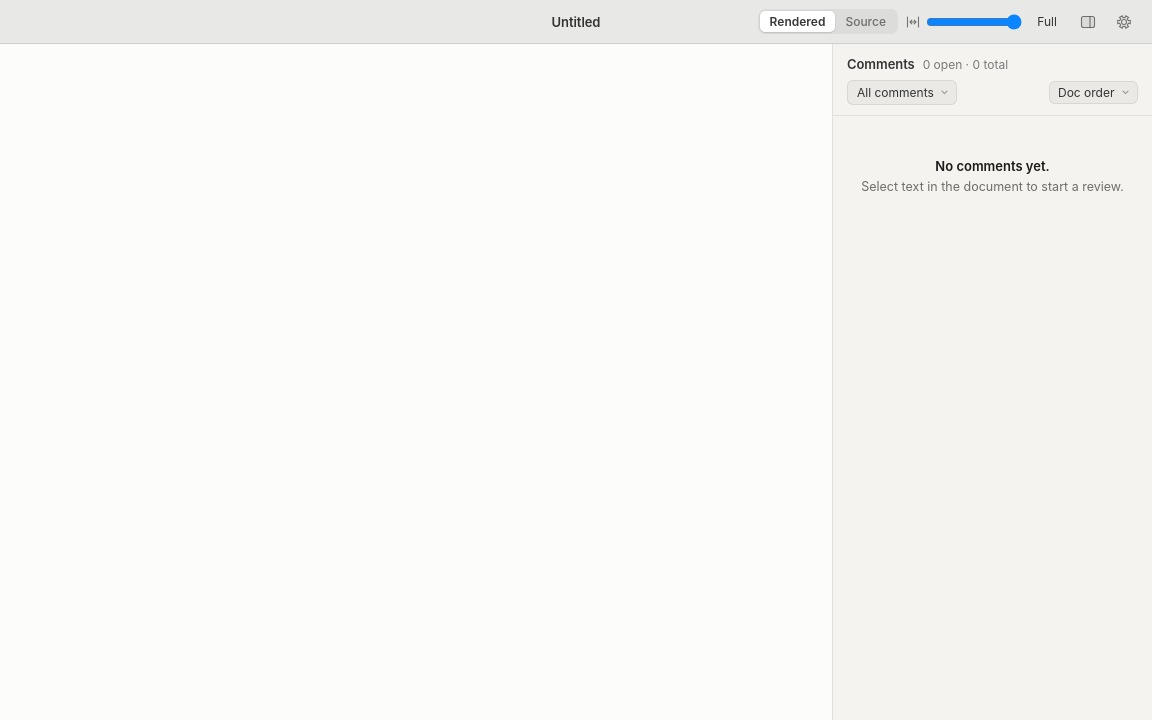
Scenario: Save skill file › shows the error when the bundle cannot be read
Click the button with test id "fm-titlebar-settings" at (1124, 22), box [1110, 10, 1138, 34]
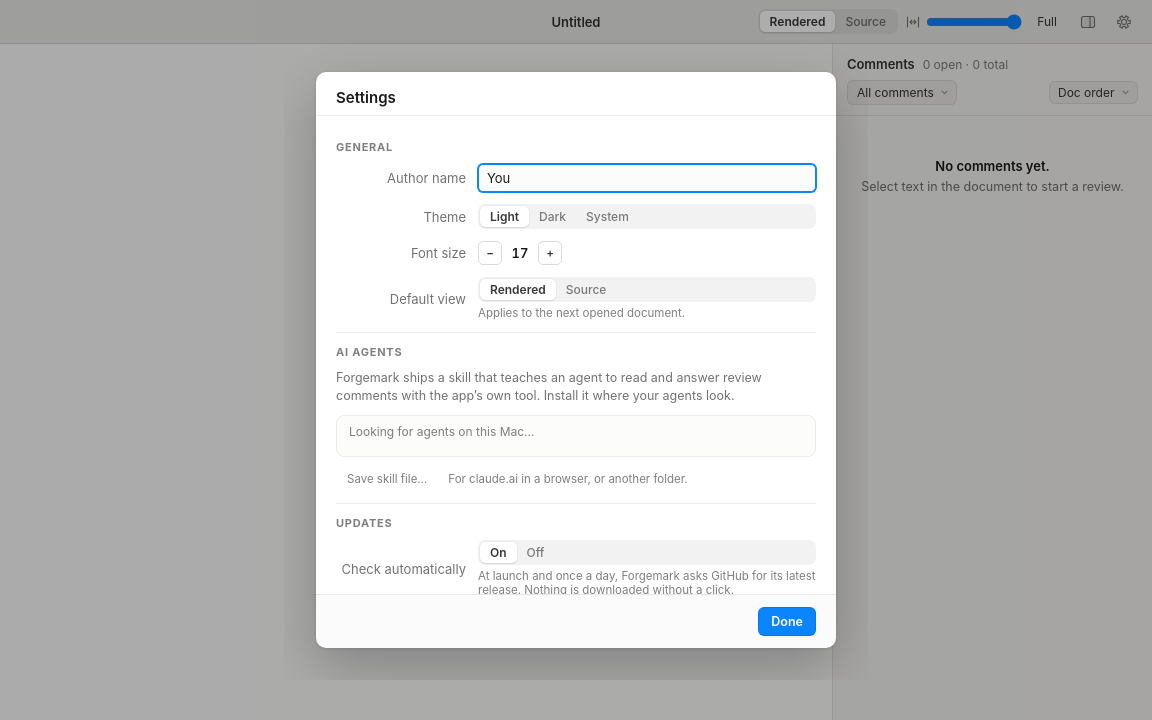
Click the button with test id "fm-settings-skill-save" at (387, 479), box [336, 467, 438, 491]
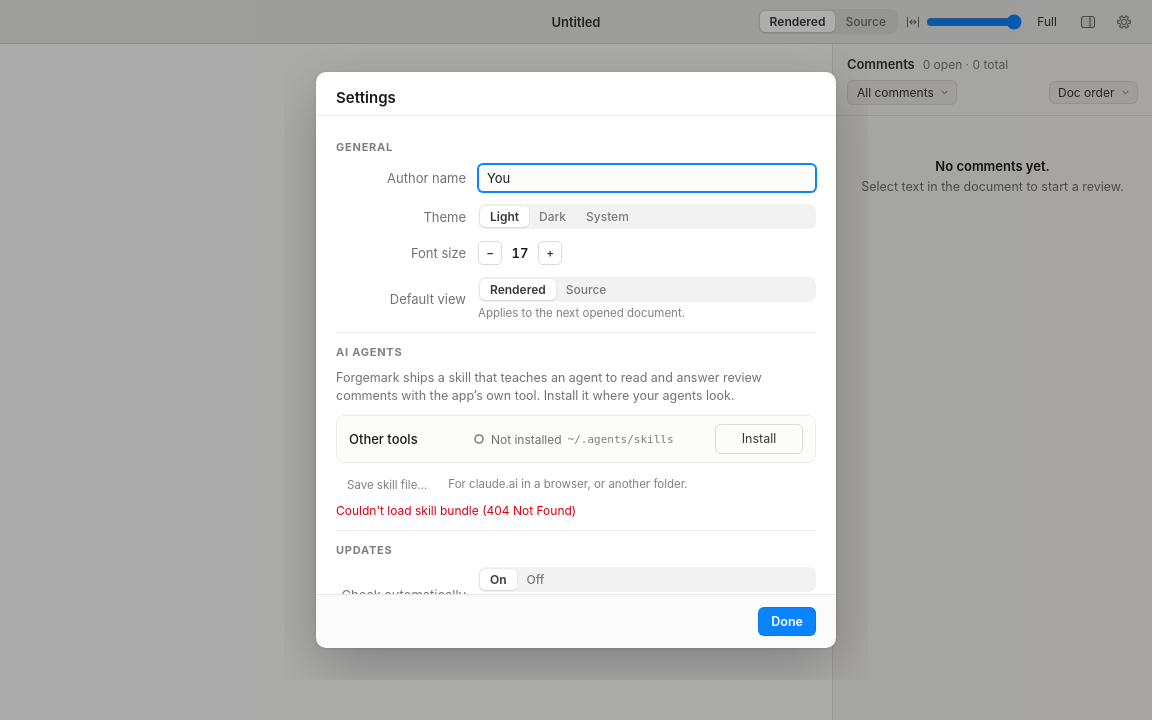
Expected: the message with test id "fm-settings-skill-error" shows "404", [336, 503, 576, 518]
